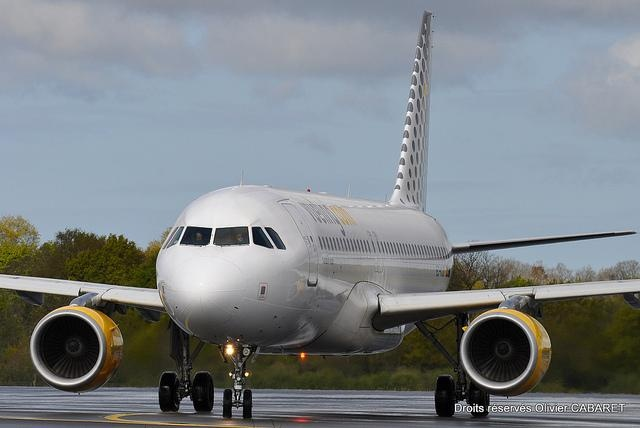airplane: (1, 21, 640, 413)
